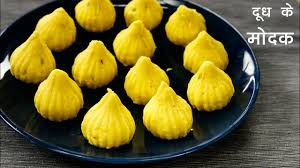modak: (79, 88, 143, 150), (146, 79, 193, 140), (10, 31, 62, 82), (34, 70, 87, 120), (189, 57, 233, 111), (181, 29, 237, 71), (76, 37, 119, 91), (30, 8, 84, 49), (163, 5, 212, 47), (115, 22, 164, 62), (128, 59, 171, 103), (121, 1, 171, 31)
